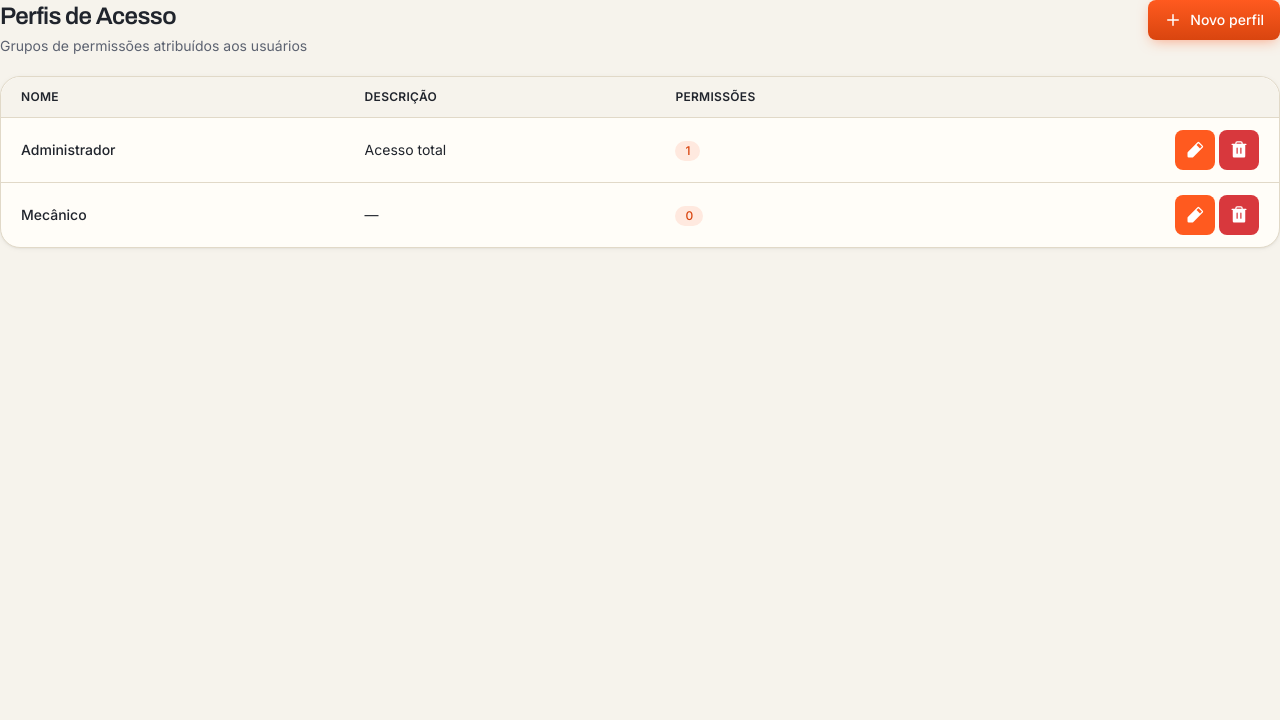
PerfisPage › opens the edit modal when a row is clicked
Click the text "Administrador" at [68, 150], box [21, 141, 116, 158]
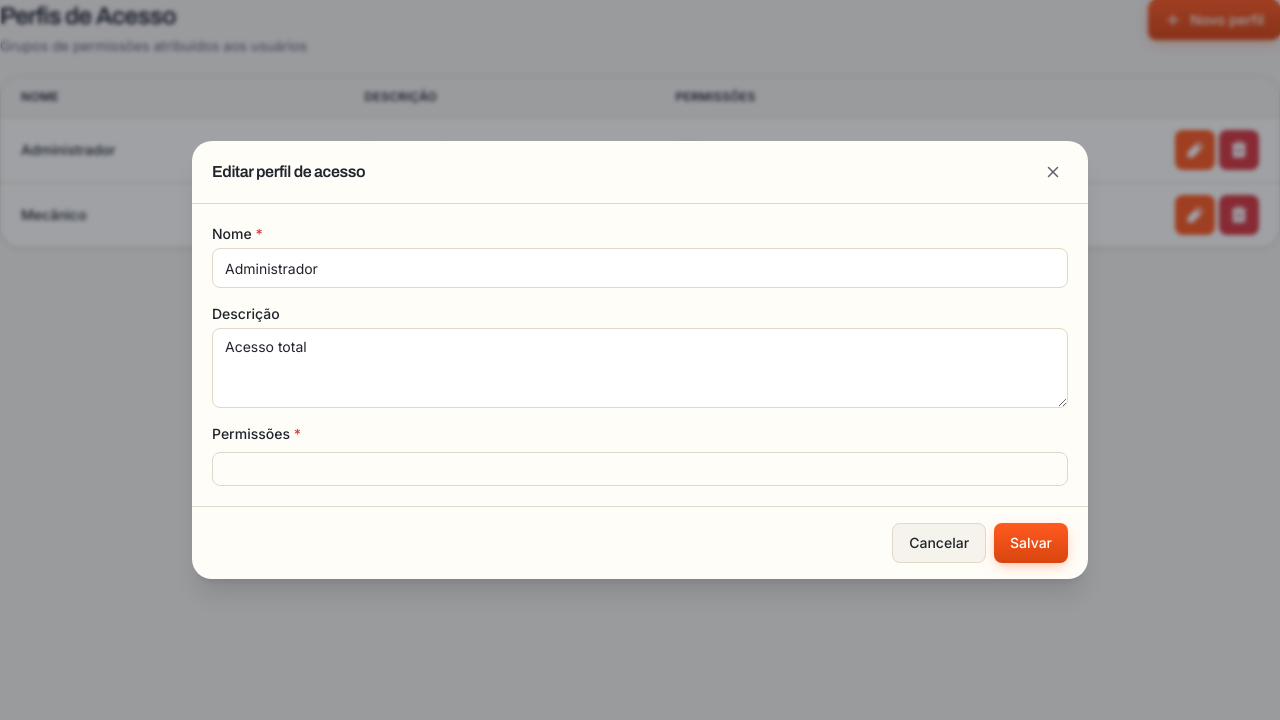
Check: the heading "Editar perfil de acesso" is shown, box [212, 160, 365, 184]
